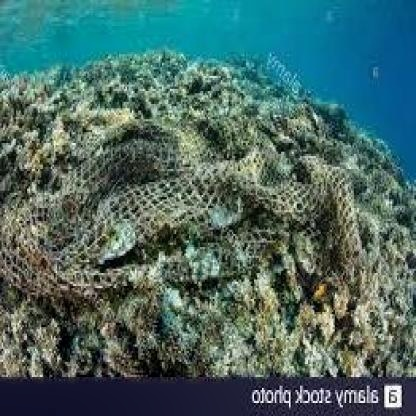net: (5, 128, 373, 305)
